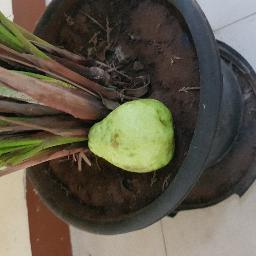Good_guava: (83, 109, 176, 175)
